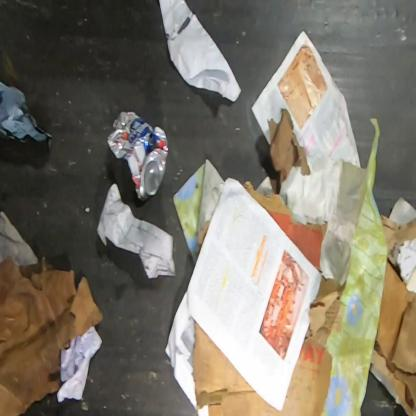cardboard: (193, 276, 347, 416), (241, 180, 328, 275), (375, 261, 415, 415), (379, 214, 415, 270), (371, 340, 391, 384)
metal: (106, 110, 170, 201)
soft_plastic: (0, 81, 52, 147)
